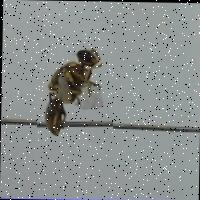Oriental-fruit-fly: (35, 33, 113, 141)
